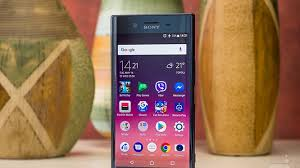sony: (108, 14, 200, 168)
